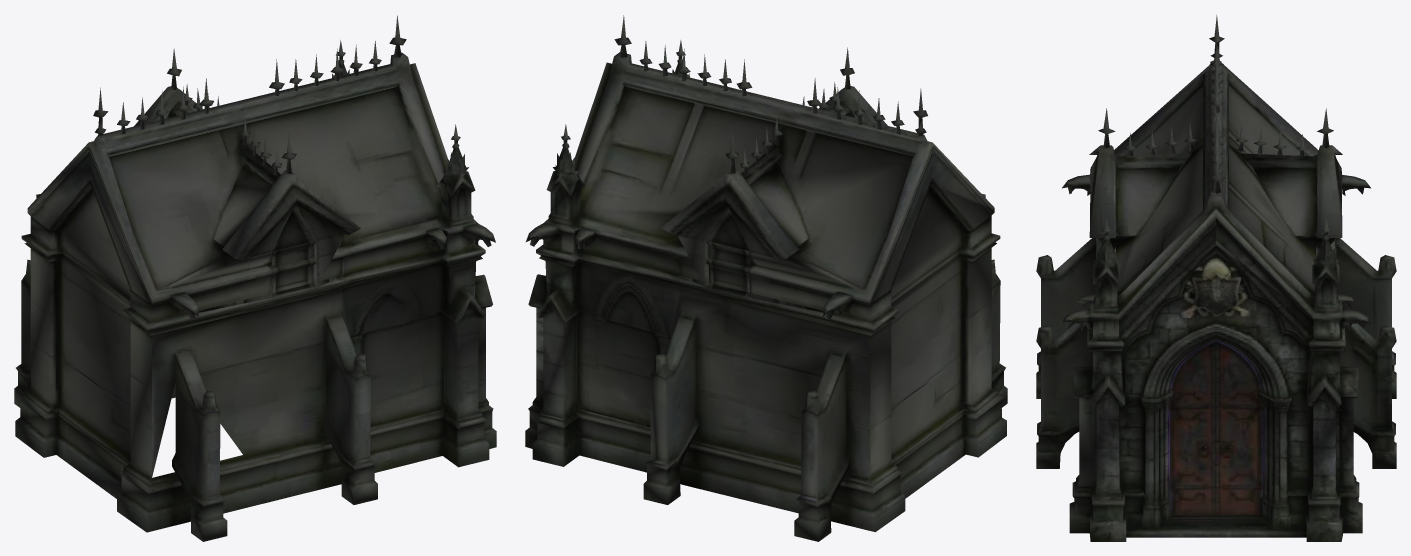
File: mausoleum.glb
The picture shows the model from 3 angles, left to right: view 1: azimuth 30°, elevation 25°; view 2: azimuth 150°, elevation 25°; view 3: azimuth 270°, elevation 25°; orthographic projection. The views are drawn at different scales.
Visible parts, largest first — view 1: tripo_node_e5cf40c4-19e4-49ea-a16a-7cf8f9d59343; view 2: tripo_node_e5cf40c4-19e4-49ea-a16a-7cf8f9d59343; view 3: tripo_node_e5cf40c4-19e4-49ea-a16a-7cf8f9d59343.
Part boxes in pixels (<box>): tripo_node_e5cf40c4-19e4-49ea-a16a-7cf8f9d59343: <box>14,15,496,541</box>; tripo_node_e5cf40c4-19e4-49ea-a16a-7cf8f9d59343: <box>525,15,1007,541</box>; tripo_node_e5cf40c4-19e4-49ea-a16a-7cf8f9d59343: <box>1036,15,1396,541</box>.
Bounding box in the file's own units: 0.9316 × 0.998 × 0.8691.
Materials: 1 (1 with a texture image).
